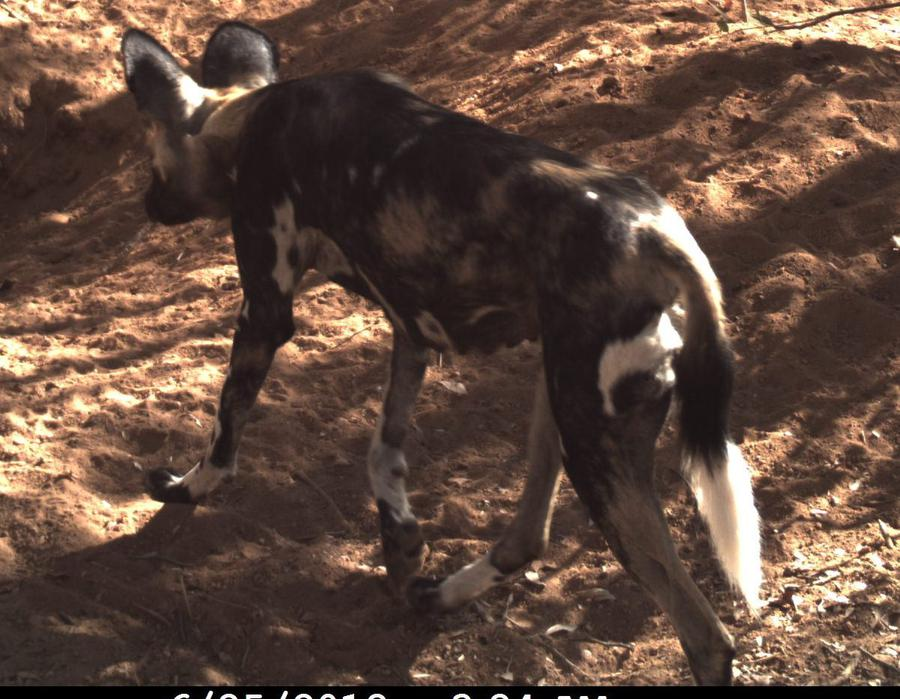wilddog: (145, 67, 754, 478)
